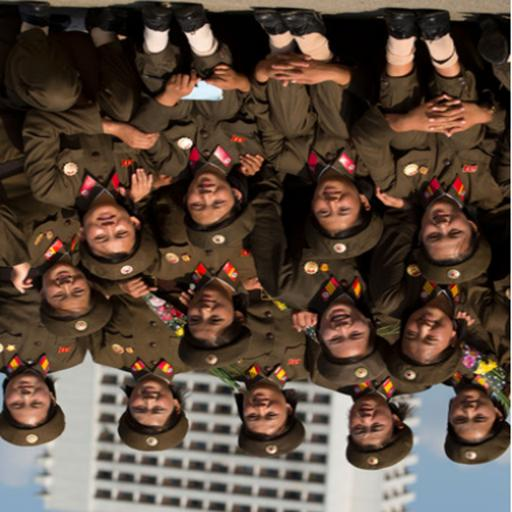north army: (4, 5, 508, 472)
